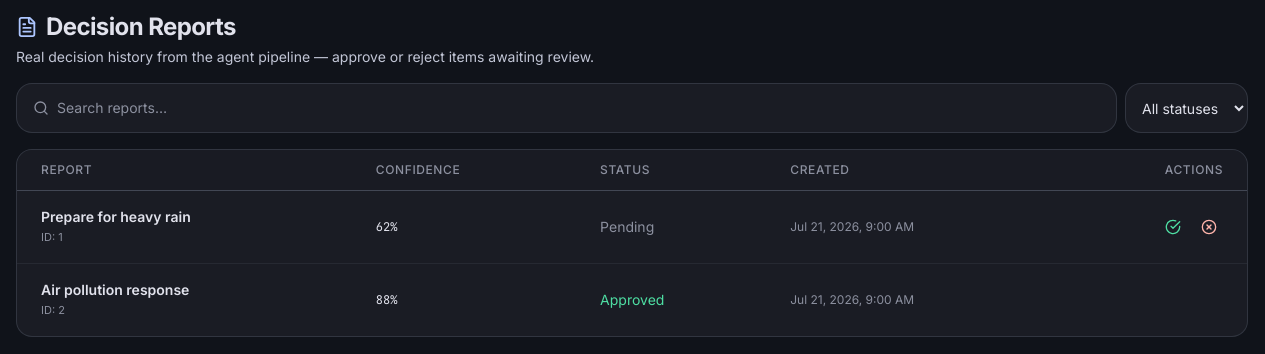
ReportsPage › filters reports by search text over the real query field
Expected: the number of rows with test id "report-row" is 2, top-left (17, 190), bottom-right (1247, 264); top-left (17, 264), bottom-right (1247, 336)
Type "pollution" into the field with test id "reports-search-input" at point(582, 108), box top-left (57, 92), bottom-right (1108, 124)
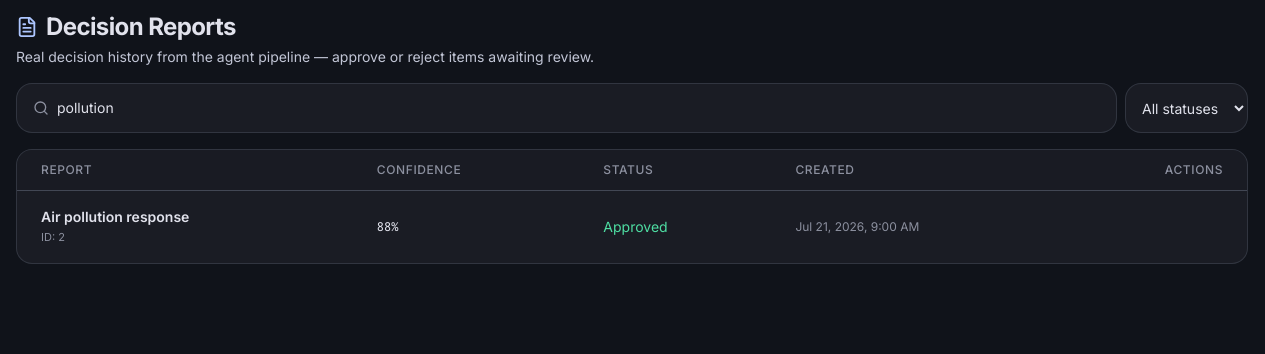
Expected: the text "Air pollution response" is shown, top-left (41, 208), bottom-right (189, 225)
Now the number of rows with test id "report-row" is 1, box top-left (17, 190), bottom-right (1247, 263)
